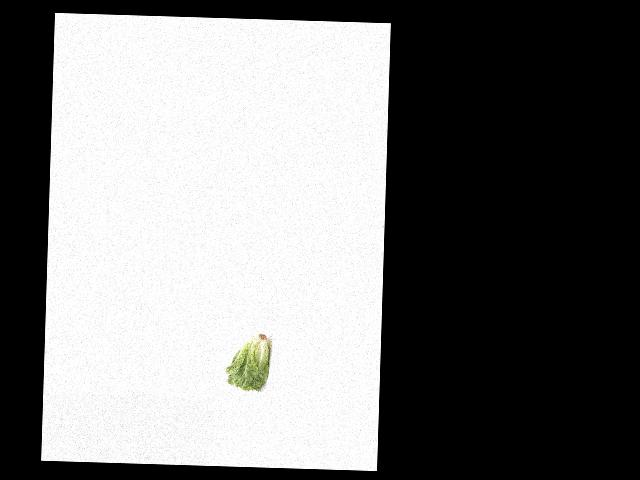lettuce: (225, 329, 271, 391)
